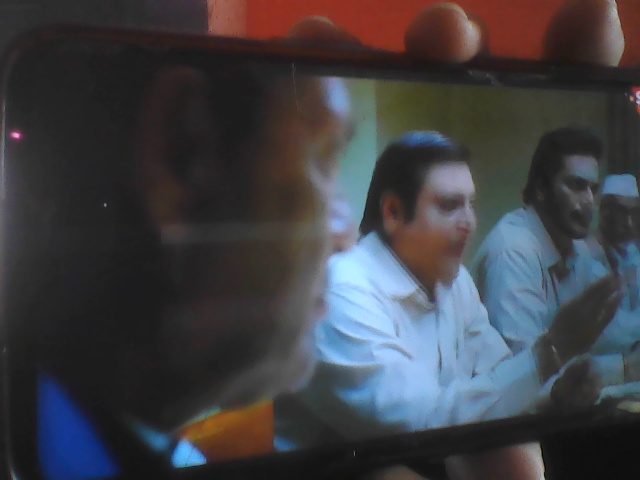fake: (382, 126, 499, 292)
